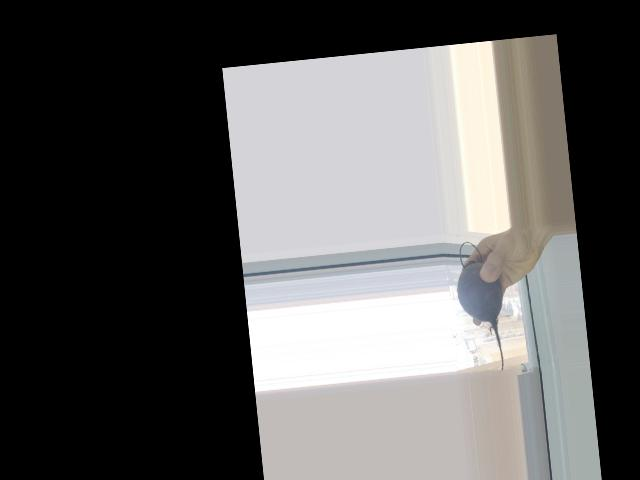beet: (452, 239, 510, 374)
